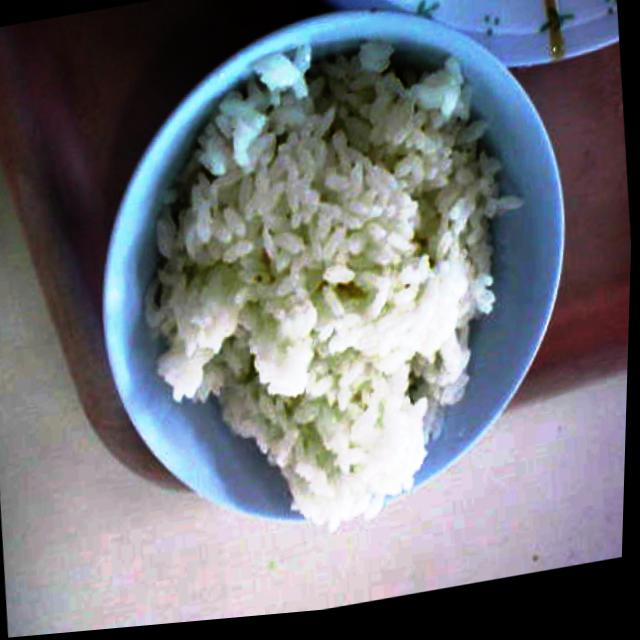rice: (116, 2, 552, 564)
